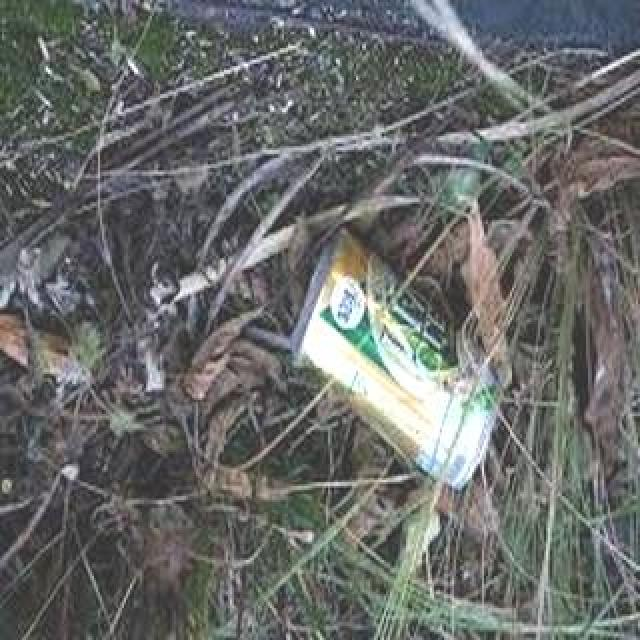Can: (285, 233, 513, 491)
